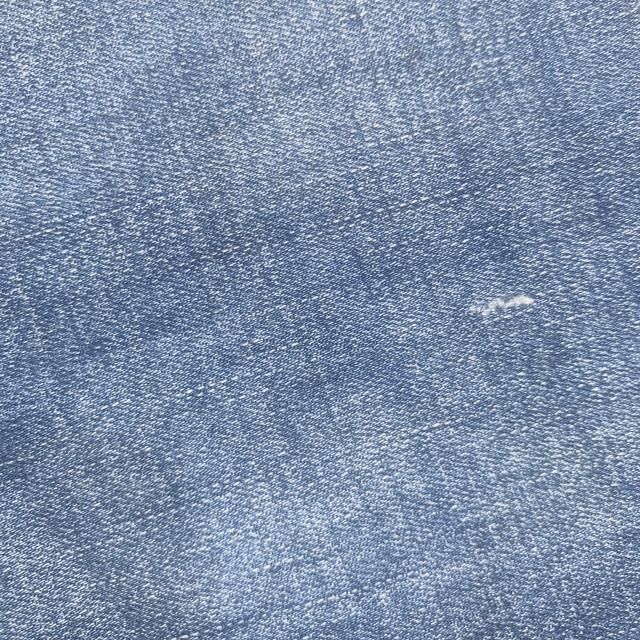Knot: (470, 294, 536, 316)
